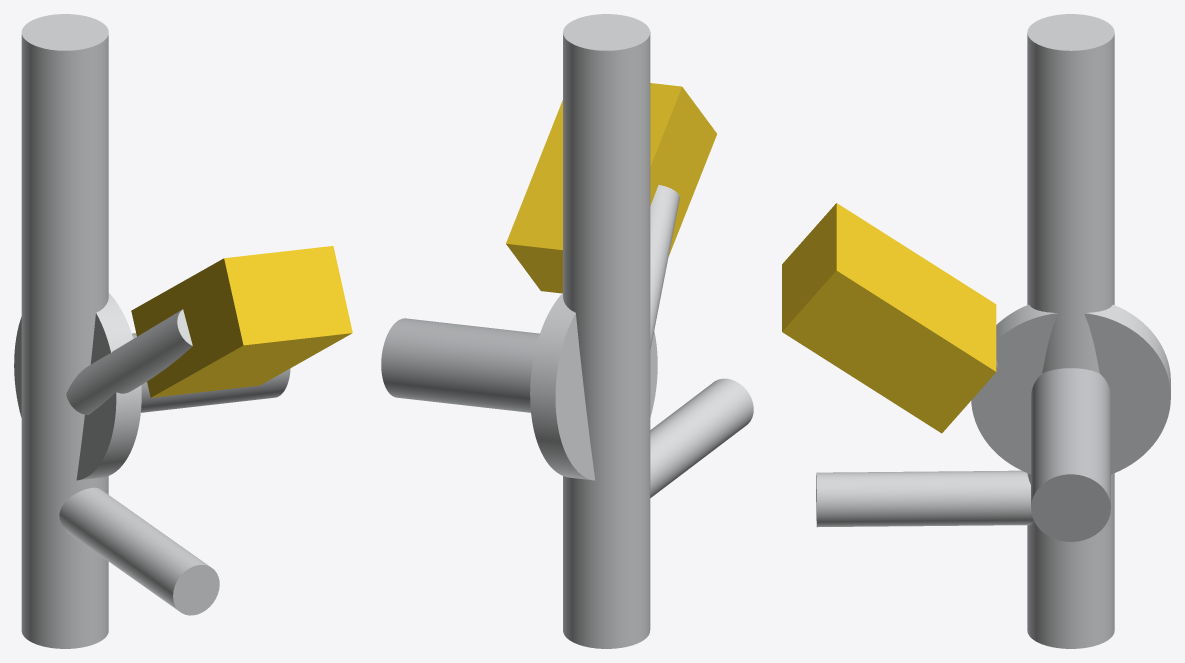
The model's file is upright.glb.
3 renders of one model, left to right at view 1: azimuth 30°, elevation 25°; view 2: azimuth 150°, elevation 25°; view 3: azimuth 270°, elevation 25°, orthographic.
Visible parts, largest first — view 1: knuckle_0, caliper_2, steel_1; view 2: knuckle_0, caliper_2, steel_1; view 3: knuckle_0, caliper_2, steel_1.
Boxes of the visible parts, x1,y1,x2,y2 form: knuckle_0: [14, 14, 219, 648]; caliper_2: [131, 246, 352, 397]; steel_1: [132, 333, 290, 412]; knuckle_0: [530, 14, 753, 648]; caliper_2: [506, 83, 716, 293]; steel_1: [381, 318, 539, 412]; knuckle_0: [816, 14, 1170, 648]; caliper_2: [782, 203, 996, 433]; steel_1: [1031, 368, 1110, 541].
Bounding box in the file's own units: 0.157 × 0.3631 × 0.214.
